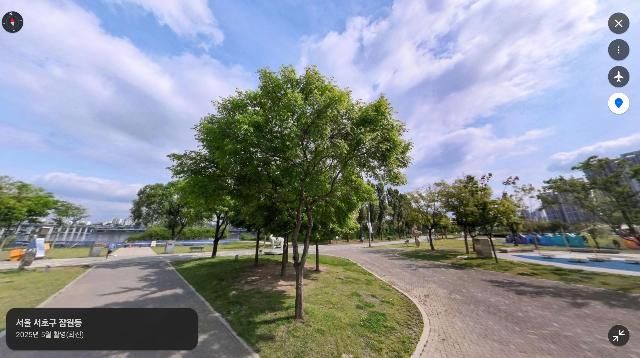other: (166, 63, 414, 320), (175, 154, 267, 260), (0, 176, 84, 261), (569, 153, 640, 250), (129, 181, 212, 244), (443, 173, 504, 255), (483, 176, 528, 262), (407, 180, 457, 252), (534, 175, 575, 248), (363, 182, 384, 243), (383, 184, 400, 242)
